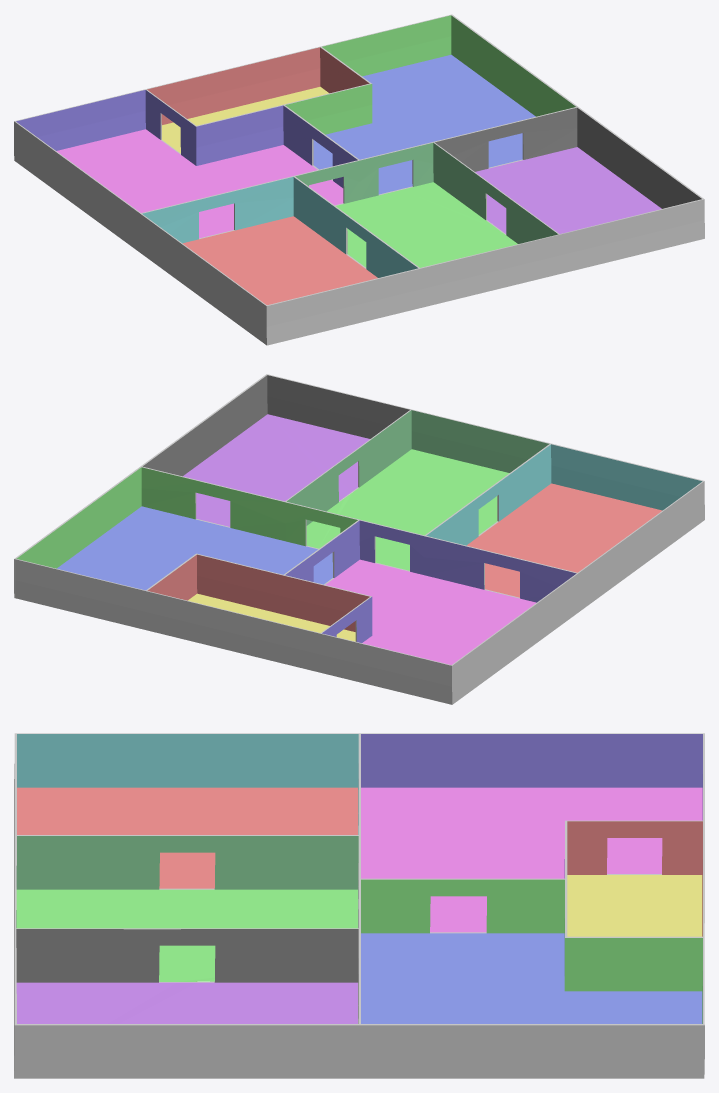
Rendered from museum.fbx.
The picture shows the model from 3 angles, top to bottom: view 1: azimuth 30°, elevation 25°; view 2: azimuth 150°, elevation 25°; view 3: azimuth 270°, elevation 25°; orthographic projection. The views are drawn at different scales.
Parts seen in each view (by area): view 1: Walls, Floor; view 2: Walls, Floor; view 3: Walls, Floor.
Part boxes in pixels (x1,y1,x2,y2): Walls: (14, 14, 704, 345); Floor: (56, 54, 661, 304); Walls: (14, 374, 704, 704); Floor: (57, 414, 662, 664); Walls: (14, 733, 704, 1078); Floor: (16, 787, 702, 1023).
Size of the model in its own units: 50 by 4.29 by 50.
